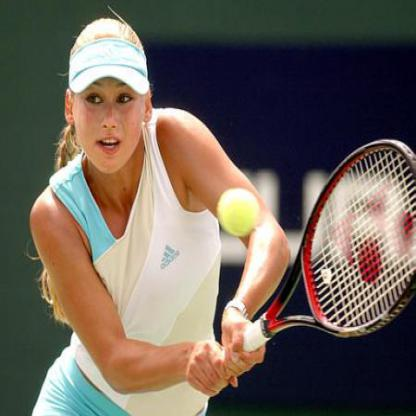face: (72, 21, 147, 175)
